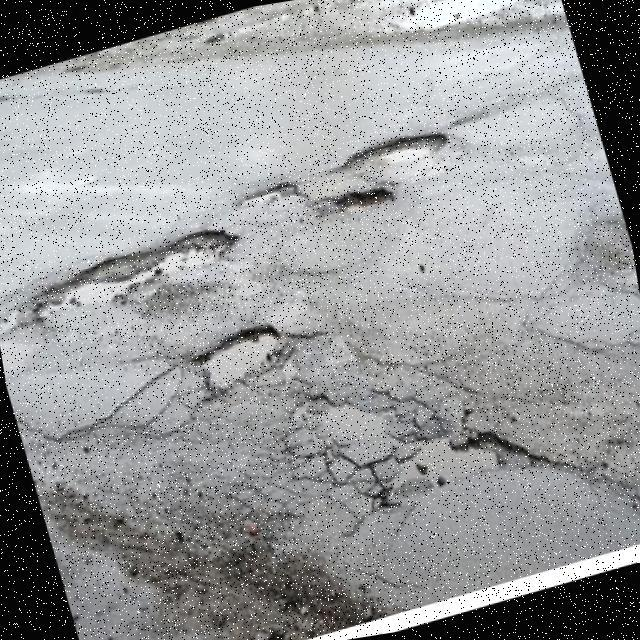Pothole: (33, 231, 237, 320), (390, 441, 537, 489), (189, 326, 280, 401), (346, 136, 446, 165), (235, 179, 300, 206), (321, 409, 380, 438), (334, 191, 393, 213)
